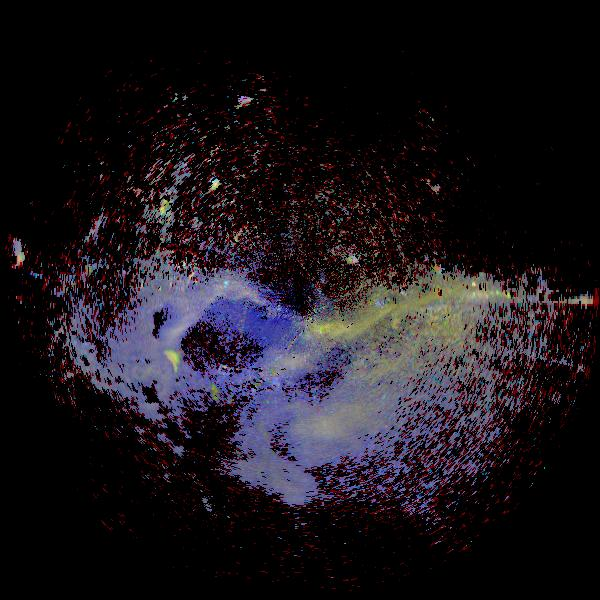roost: (2, 244, 32, 274), (156, 349, 186, 379)
